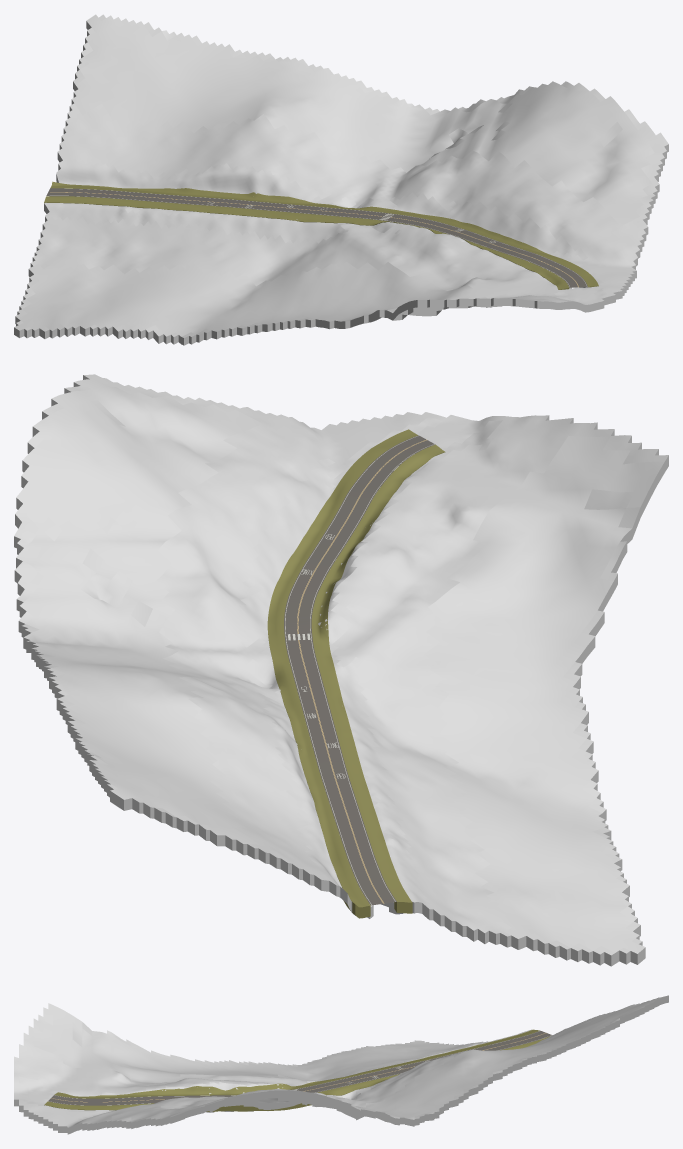
Rendered from conz_73.glb.
The picture shows the model from 3 angles, top to bottom: view 1: azimuth 30°, elevation 25°; view 2: azimuth 150°, elevation 25°; view 3: azimuth 270°, elevation 25°; orthographic projection. The views are drawn at different scales.
Visible parts, largest first — view 1: terrain73, road73, verge73L, verge73R, paint_white73; view 2: terrain73, road73, verge73R, verge73L, paint_white73, paint_yellow73; view 3: terrain73, road73, verge73L, verge73R, paint_white73, paint_yellow73.
Part boxes in pixels (x1=…): terrain73: x1=14, y1=14, x2=668, y2=345; road73: x1=46, y1=188, x2=587, y2=287; verge73L: x1=44, y1=196, x2=569, y2=289; verge73R: x1=50, y1=181, x2=598, y2=287; paint_white73: x1=50, y1=188, x2=587, y2=286; terrain73: x1=14, y1=374, x2=668, y2=966; road73: x1=284, y1=435, x2=435, y2=905; verge73R: x1=267, y1=429, x2=417, y2=918; verge73L: x1=311, y1=444, x2=445, y2=913; paint_white73: x1=285, y1=435, x2=434, y2=904; paint_yellow73: x1=297, y1=439, x2=426, y2=903; terrain73: x1=14, y1=995, x2=668, y2=1134; road73: x1=48, y1=1030, x2=552, y2=1105; verge73L: x1=54, y1=1029, x2=539, y2=1098; verge73R: x1=44, y1=1036, x2=550, y2=1111; paint_white73: x1=48, y1=1031, x2=551, y2=1105; paint_yellow73: x1=51, y1=1033, x2=546, y2=1102.
Size of the model in its own units: 214 by 76.31 by 268.
